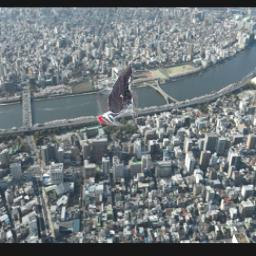Woodpecker: (98, 64, 139, 127)
